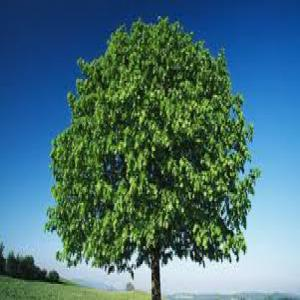Tree: (44, 9, 263, 298)
